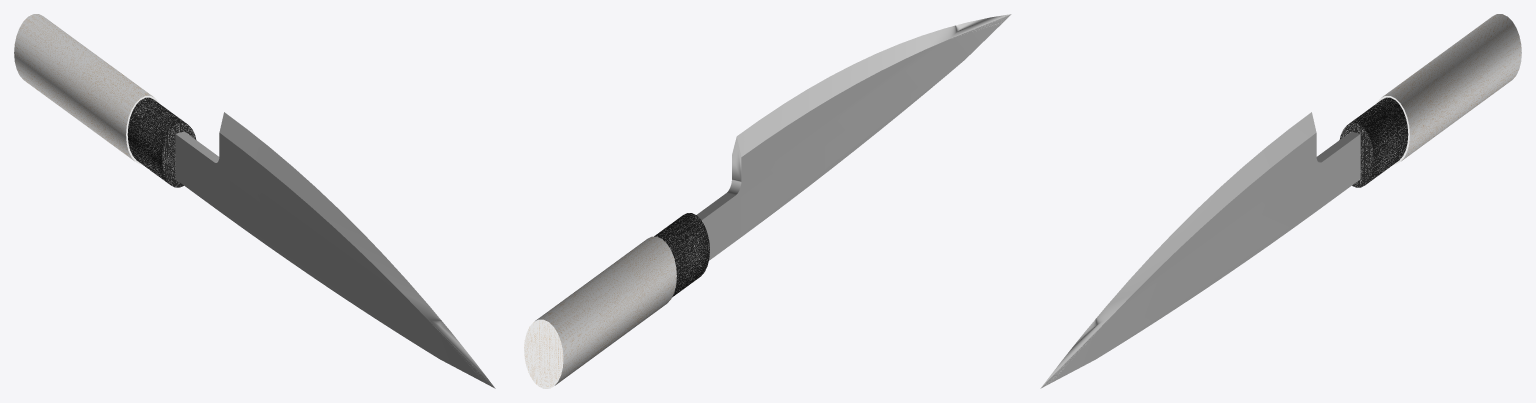
The model's file is model_scale.obj.
3 renders of one model, left to right at view 1: azimuth 30°, elevation 25°; view 2: azimuth 150°, elevation 25°; view 3: azimuth 330°, elevation 25°, orthographic.
Parts seen in each view (by area): view 1: mesh1_mesh1-geometry, mesh4_mesh4-geometry; view 2: mesh1_mesh1-geometry, mesh4_mesh4-geometry; view 3: mesh1_mesh1-geometry, mesh4_mesh4-geometry.
Boxes of the visible parts, x1,y1,x2,y2 form: mesh1_mesh1-geometry: (175, 112, 495, 388); mesh4_mesh4-geometry: (14, 14, 196, 187); mesh1_mesh1-geometry: (696, 14, 1011, 260); mesh4_mesh4-geometry: (524, 213, 709, 388); mesh1_mesh1-geometry: (1040, 112, 1360, 388); mesh4_mesh4-geometry: (1339, 14, 1521, 187).
Size of the model in its own units: 0.0113 by 0.0303 by 0.2313.
5 materials, 1 textured.
